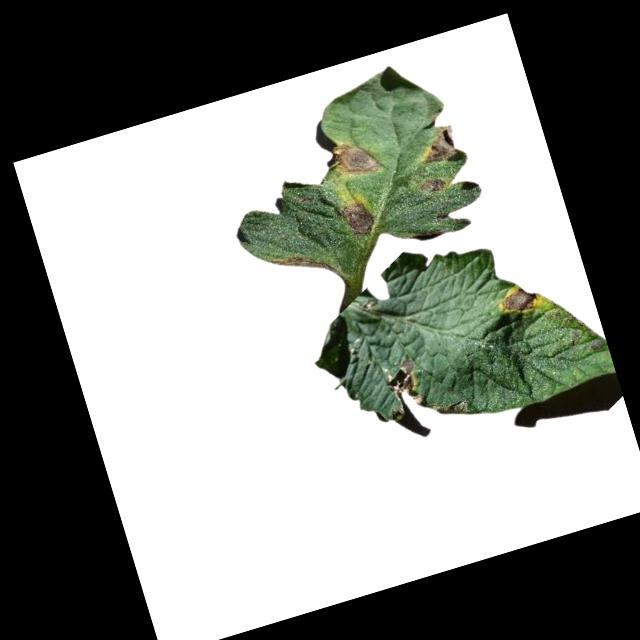Early_blight: (324, 133, 382, 184), (270, 245, 334, 289), (384, 357, 429, 416), (414, 123, 467, 171), (495, 280, 540, 322), (337, 198, 379, 242), (416, 173, 448, 198)
